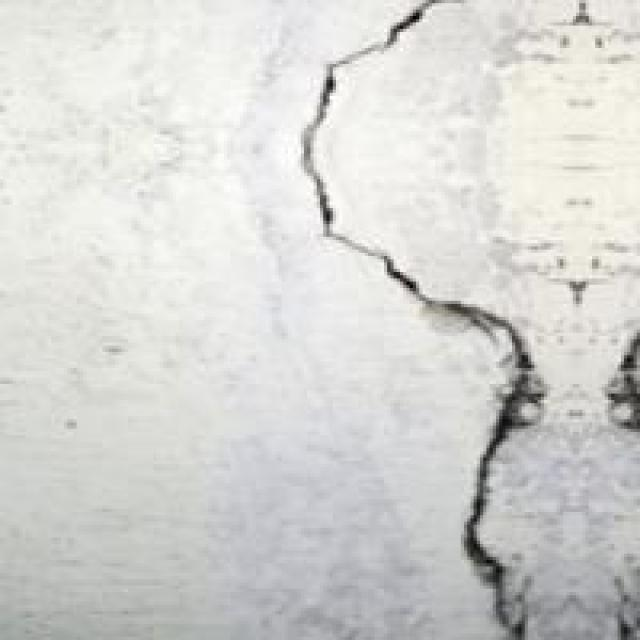crack: (272, 0, 576, 637)
